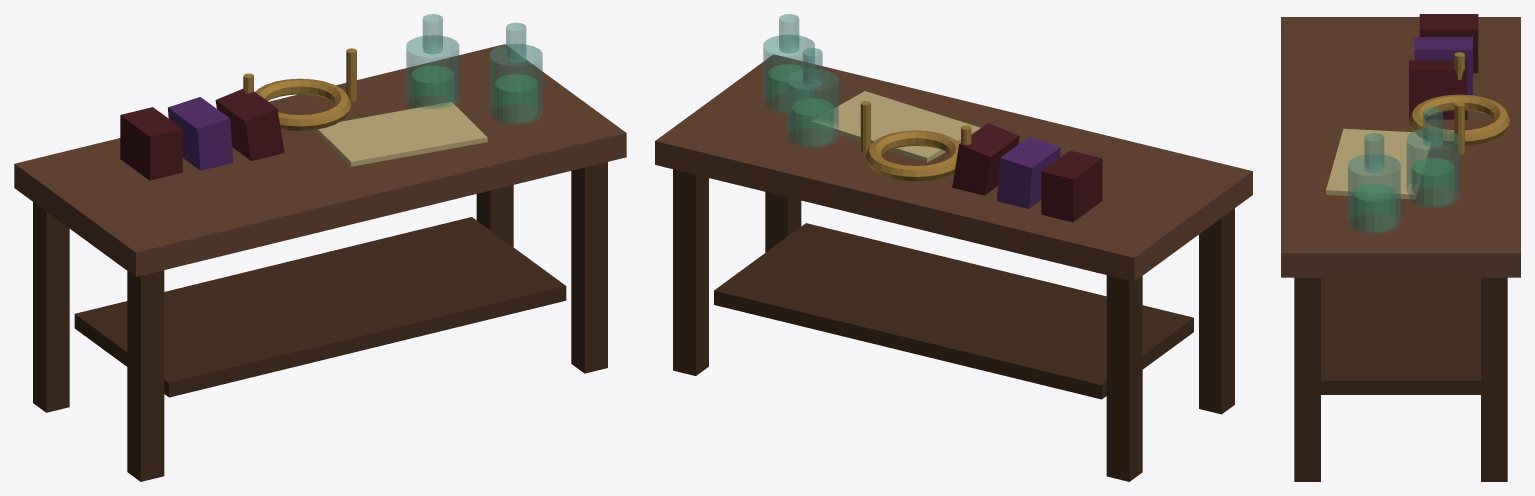
The model's file is AlchemyDesk.obj.
The picture shows the model from 3 angles, left to right: view 1: azimuth 30°, elevation 25°; view 2: azimuth 150°, elevation 25°; view 3: azimuth 270°, elevation 25°; orthographic projection. The views are drawn at different scales.
Visible parts, largest first — view 1: DeskTop, LowerShelf, Leg_-0.95_0.35, Leg_0.95_0.35, Leg_-0.95_-0.35, Parchment, BottleBody_1, BottleBody_0, Book_0, Book_1, Book_2, Coil (+5 smaller); view 2: DeskTop, LowerShelf, Leg_-0.95_-0.35, Leg_0.95_-0.35, Leg_-0.95_0.35, Parchment, BottleBody_0, Book_0, Book_1, Book_2, Coil, BottleBody_1 (+5 smaller); view 3: DeskTop, LowerShelf, Parchment, Leg_0.95_-0.35, Leg_0.95_0.35, BottleBody_0, BottleBody_1, Coil, Book_2, BottleFluid_0, BottleFluid_1, Book_0 (+4 smaller).
Part boxes in pixels (x1,y1,x2,y2): DeskTop: (14, 44, 626, 276); LowerShelf: (74, 217, 566, 397); Leg_-0.95_0.35: (127, 270, 164, 481); Leg_0.95_0.35: (571, 162, 607, 373); Leg_-0.95_-0.35: (33, 202, 69, 412); Parchment: (315, 102, 487, 166); BottleBody_1: (489, 44, 542, 124); BottleBody_0: (406, 35, 459, 108); Book_0: (120, 107, 182, 180); Book_1: (167, 97, 233, 170); Book_2: (215, 89, 284, 160); Coil: (255, 78, 351, 130); DeskTop: (655, 54, 1252, 281); LowerShelf: (714, 223, 1193, 399); Leg_-0.95_-0.35: (1106, 275, 1142, 481); Leg_0.95_-0.35: (673, 169, 708, 375); Leg_-0.95_0.35: (1199, 208, 1234, 414); Parchment: (811, 91, 980, 162); BottleBody_0: (786, 69, 838, 147); Book_0: (1041, 150, 1102, 222); Book_1: (997, 136, 1060, 208); Book_2: (952, 123, 1019, 195); Coil: (866, 130, 959, 181); BottleBody_1: (763, 35, 814, 113); DeskTop: (1281, 17, 1520, 277); LowerShelf: (1321, 277, 1480, 394); Parchment: (1326, 128, 1431, 199); Leg_0.95_-0.35: (1481, 277, 1507, 481); Leg_0.95_0.35: (1294, 277, 1320, 481); BottleBody_0: (1406, 128, 1459, 207); BottleBody_1: (1348, 154, 1400, 233); Coil: (1409, 94, 1510, 145); Book_2: (1409, 60, 1467, 119); BottleFluid_0: (1411, 158, 1454, 205); BottleFluid_1: (1353, 184, 1395, 231); Book_0: (1419, 14, 1478, 73).
Bounding box in the file's own units: 2.1 × 1.33 × 0.9.
